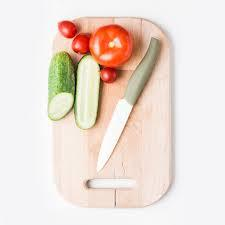Knife: (95, 36, 161, 173)
